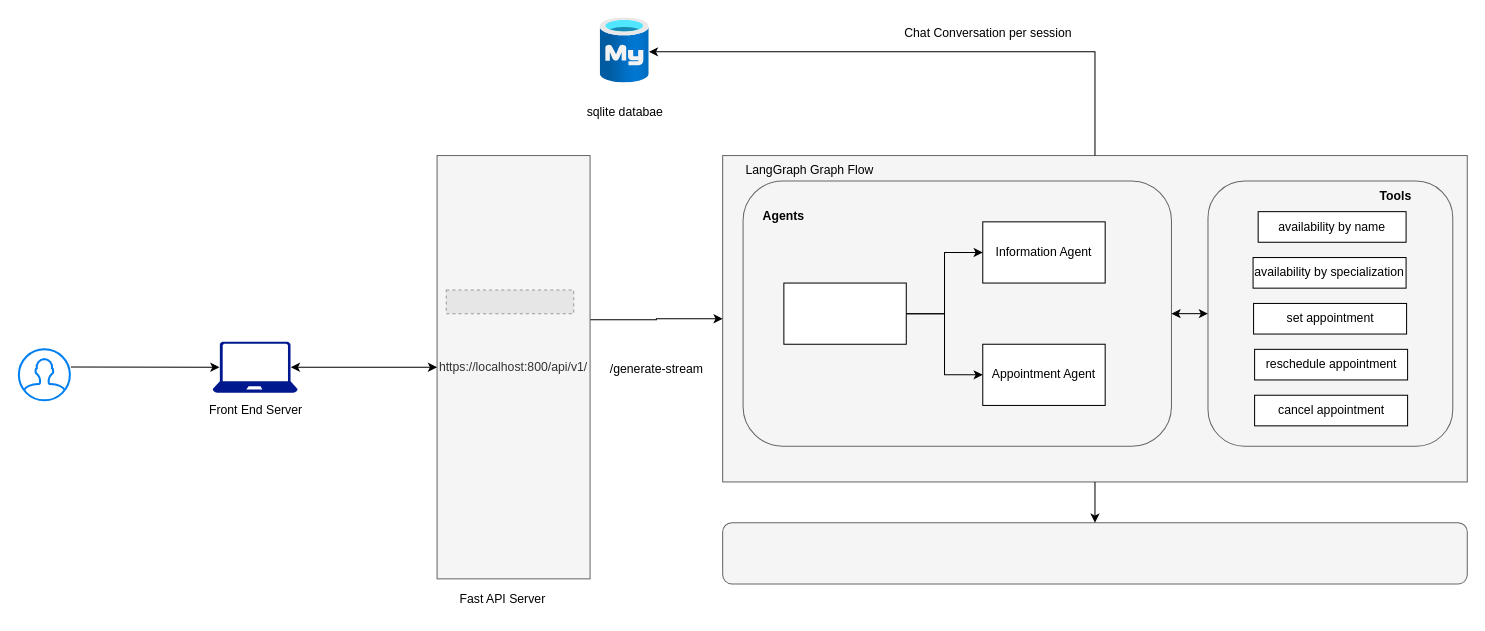
Some shapes in this 1485 by 631 pixel diagram are drawn without their labels. Grey dashed boxes stand in for pictures. The centre of each missing label's shape, as x and y in pixels:
"Agent Monitoring - Langsmith" goes at point 1094,553.
"Supervisor" goes at point 844,313.
